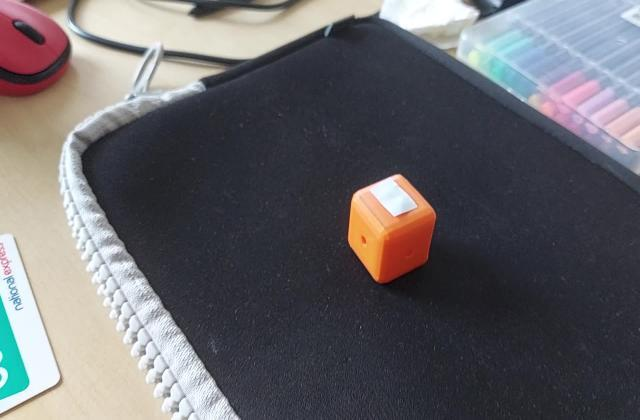sticker: (344, 177, 440, 284)
white: (370, 188, 418, 220)
